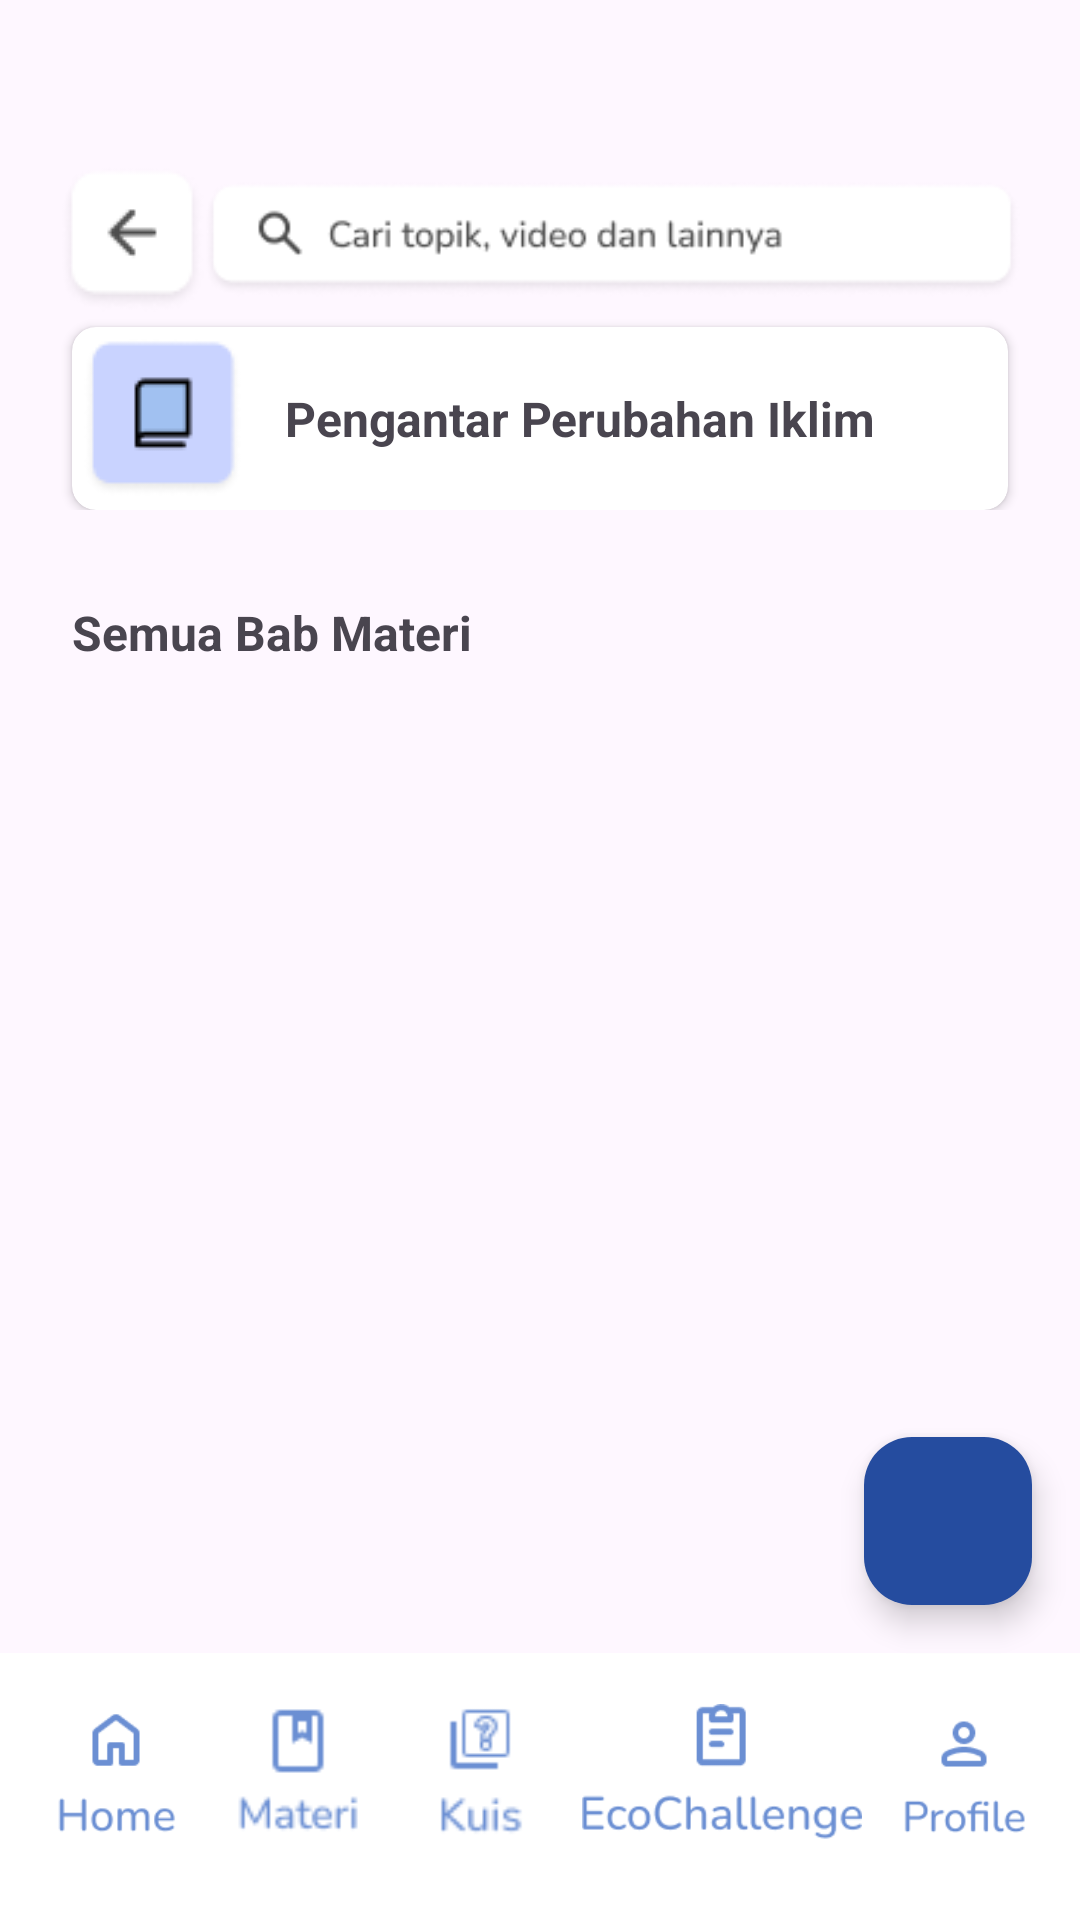

Screen size 1080 x 1920. Icon name, then its center in pixels as point (x, y):
book: point (163, 413)
btbackmateri: point (132, 238)
